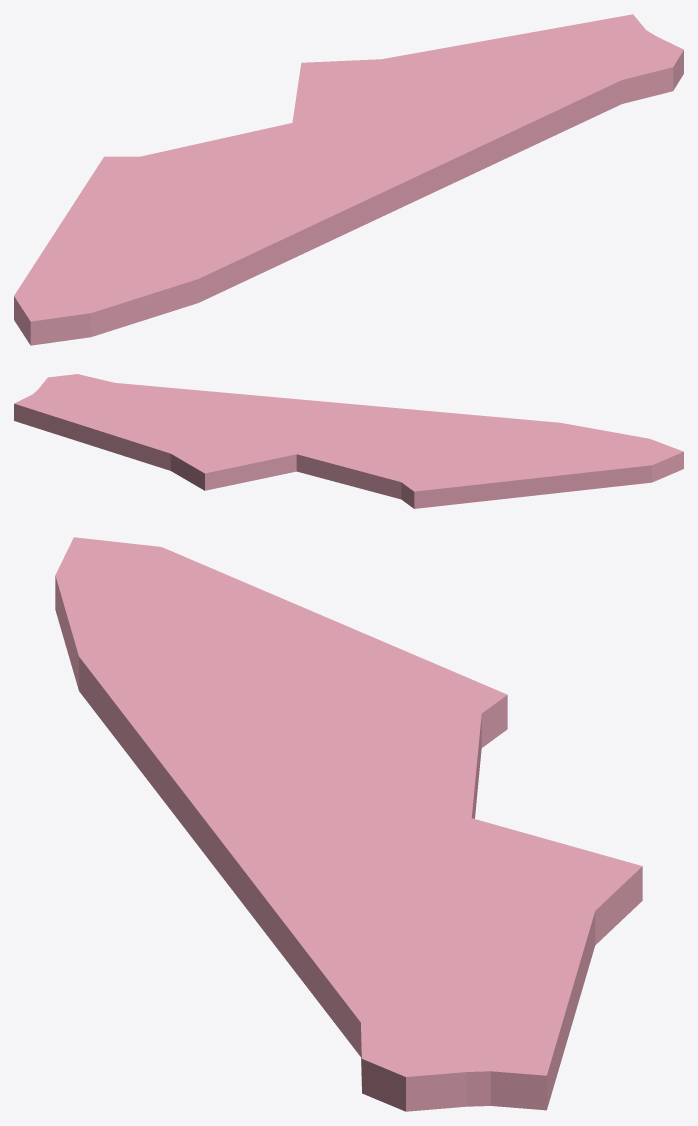
File: boundary_extruded_4326.gltf
3 views of the same model, one above another, from view 1: azimuth 30°, elevation 25°; view 2: azimuth 150°, elevation 25°; view 3: azimuth 270°, elevation 25° (orthographic). The views are drawn at different scales.
Visible parts, largest first — view 1: MIT_Boundary; view 2: MIT_Boundary; view 3: MIT_Boundary.
Boxes of the visible parts, x1,y1,x2,y2 form: MIT_Boundary: [14, 14, 683, 345]; MIT_Boundary: [14, 374, 683, 508]; MIT_Boundary: [55, 537, 642, 1111].
Size of the model in its own units: 0.0334 by 0.001 by 0.0154.
